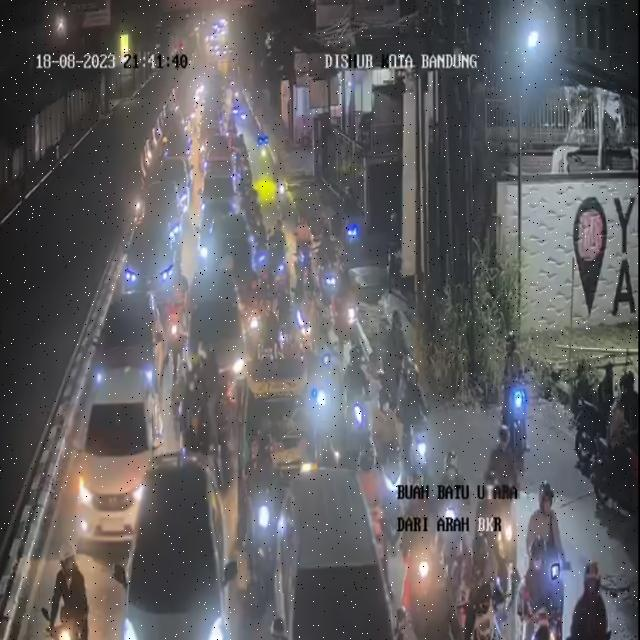cars: (129, 451, 237, 639), (274, 471, 391, 640), (65, 357, 152, 546), (240, 347, 318, 478), (91, 283, 163, 404), (188, 268, 248, 407), (123, 215, 178, 315), (218, 198, 256, 302), (199, 164, 234, 234), (202, 134, 234, 174), (204, 159, 237, 183)
motorcycle: (526, 480, 570, 640), (248, 424, 286, 594), (405, 476, 445, 635), (404, 364, 440, 490), (46, 547, 92, 640), (344, 336, 372, 459), (568, 553, 608, 638), (441, 444, 470, 561), (503, 359, 531, 451), (188, 403, 218, 484), (180, 363, 207, 447), (484, 426, 514, 498), (336, 268, 364, 341), (164, 266, 186, 351), (252, 180, 267, 298), (269, 221, 290, 301), (320, 310, 338, 394), (171, 152, 192, 224), (189, 210, 207, 294), (297, 264, 315, 342), (195, 210, 212, 291), (261, 167, 277, 238), (189, 72, 204, 109), (226, 78, 241, 111)
